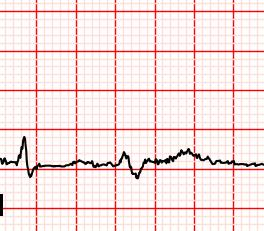Poor R Progression: (14, 135, 30, 168), (115, 147, 133, 170)
